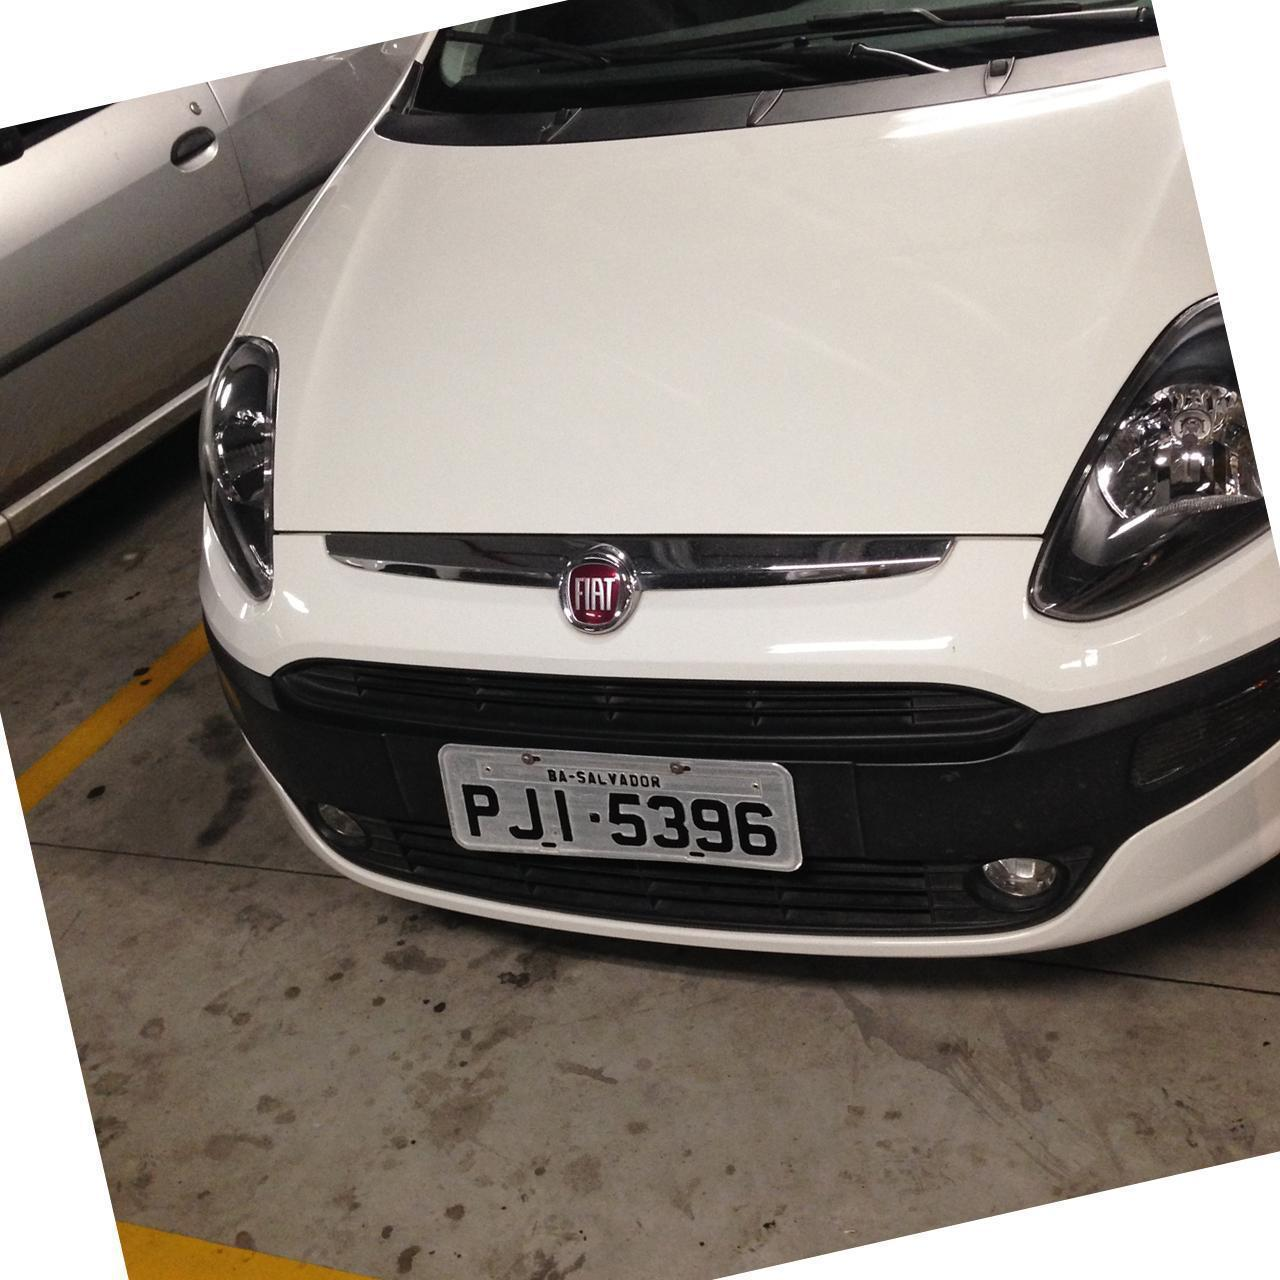placa de veiculo: (372, 723, 857, 890)
